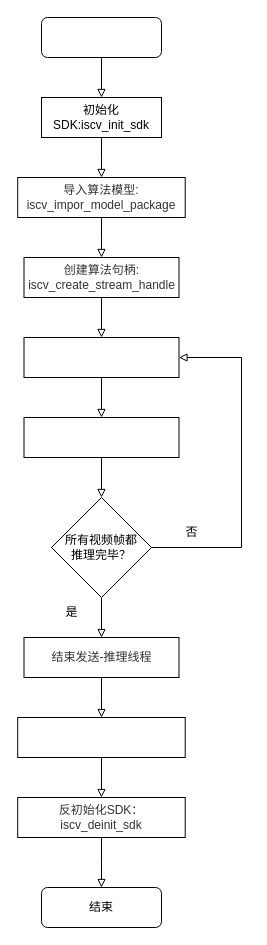
This 267x945 diagram has some shape labels left out. Each missing label, with the centre of its shape:
"向SDK发送一个视频帧: iscv_send_frame_stream" belongs at (101,357).
"开始" belongs at (101,37).
"获取推理结果： iscv_get_detect_result" belongs at (101,437).
"销毁算法句柄: iscv_release_stream_handle" belongs at (101,737).
